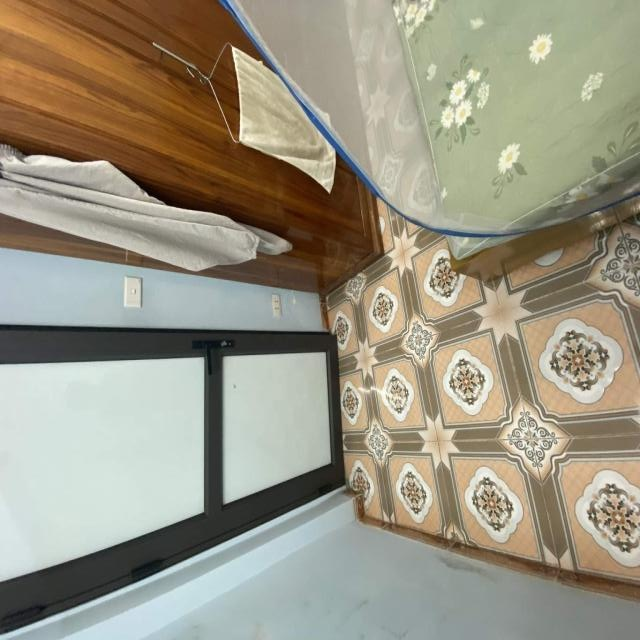outlet: (271, 295, 282, 317)
